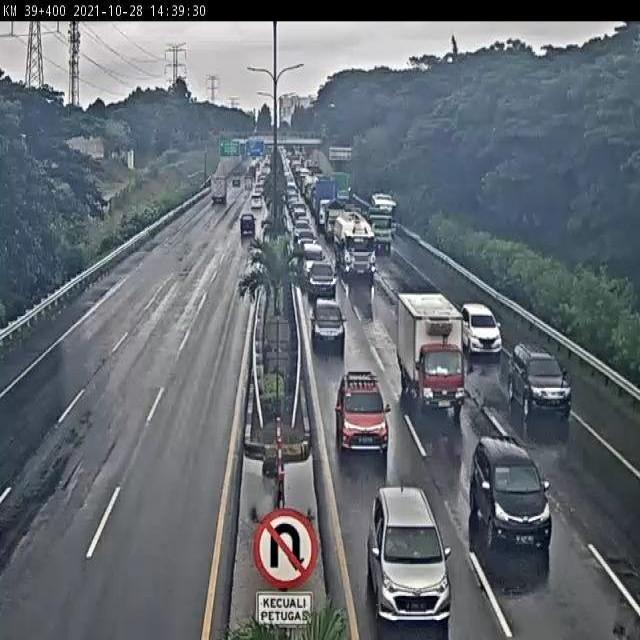big truck: (336, 208, 378, 283)
car: (367, 488, 455, 632), (470, 433, 555, 560), (334, 364, 394, 453), (505, 346, 569, 422), (337, 364, 389, 451), (465, 304, 509, 352), (313, 300, 351, 341), (308, 260, 334, 288), (238, 212, 260, 244)
small truck: (402, 291, 471, 409), (211, 170, 230, 202)
